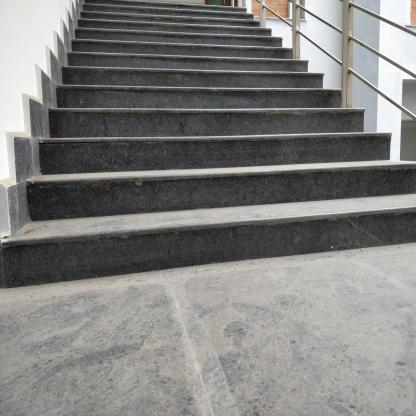stairs: (86, 5, 246, 286)
